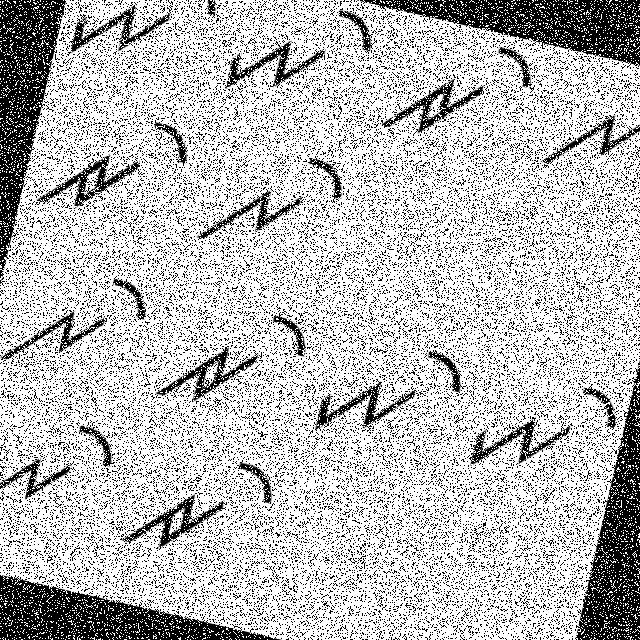lay: (191, 128, 356, 274), (0, 247, 162, 394), (0, 389, 127, 548), (532, 53, 639, 212)
ray: (117, 432, 285, 582), (372, 16, 541, 165), (32, 92, 200, 238), (154, 287, 316, 433)
yay: (302, 318, 474, 469), (460, 354, 628, 501), (217, 0, 383, 126), (59, 0, 226, 90)
